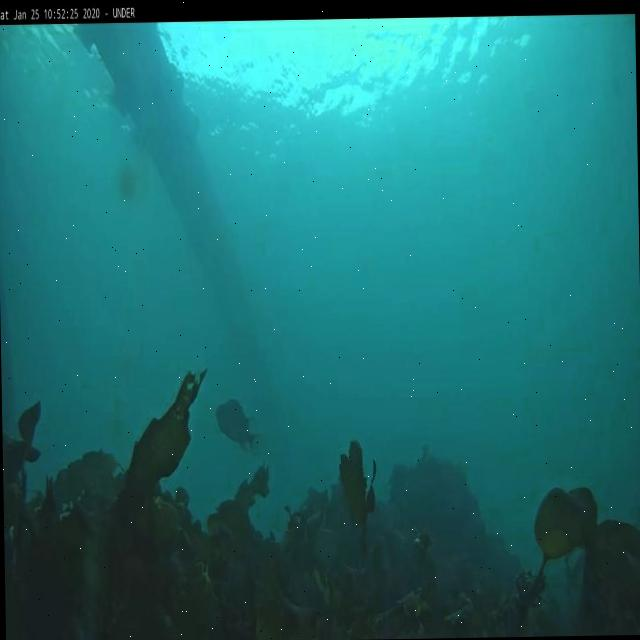fish: (216, 396, 258, 452)
